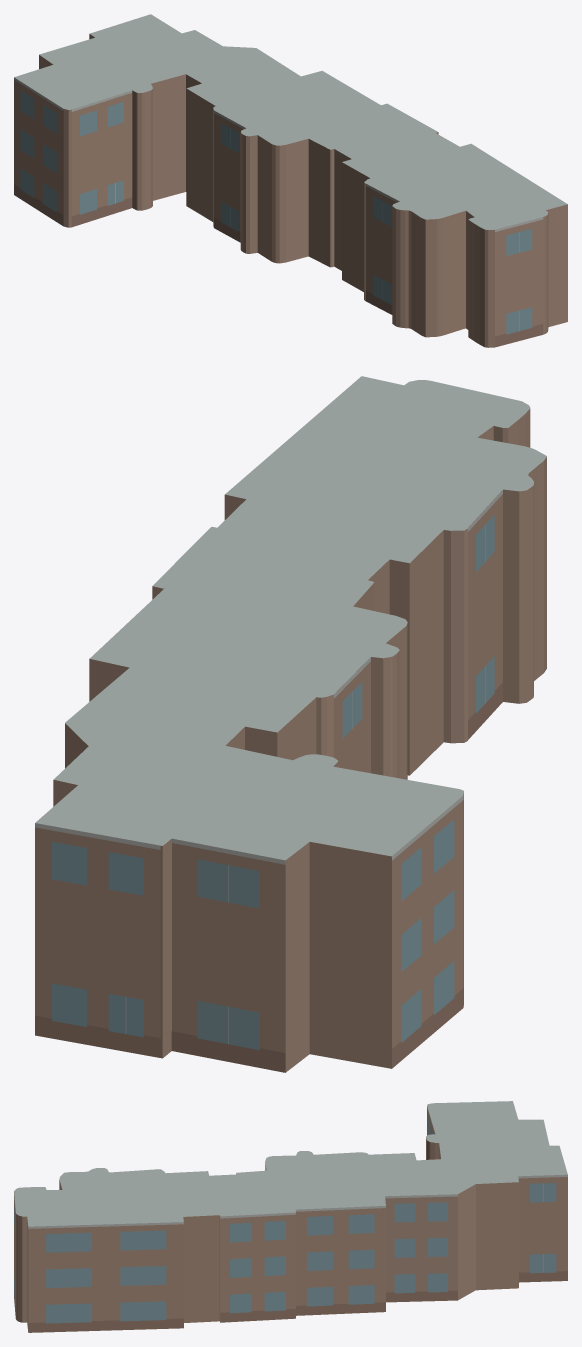
File: survey-upis-32901307.glb
3 views of the same model, one above another, from view 1: azimuth 30°, elevation 25°; view 2: azimuth 150°, elevation 25°; view 3: azimuth 270°, elevation 25° (orthographic). The views are drawn at different scales.
Visible parts, largest first — view 1: survey-upis-32901307.tmp; view 2: survey-upis-32901307.tmp; view 3: survey-upis-32901307.tmp.
Boxes of the visible parts, <box> form: survey-upis-32901307.tmp: <box>14,14,567,347</box>; survey-upis-32901307.tmp: <box>35,376,546,1072</box>; survey-upis-32901307.tmp: <box>14,1101,567,1332</box>.
Bounding box in the file's own units: 29.94 × 11.8 × 55.78.
